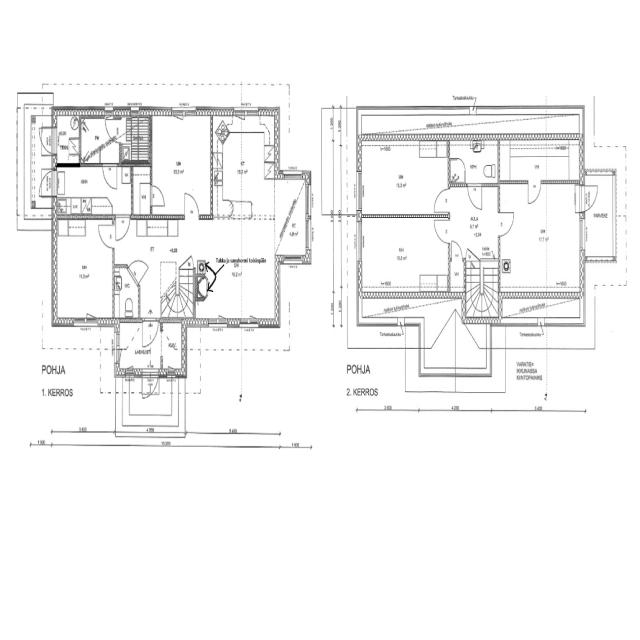door: (581, 169, 614, 260), (182, 189, 201, 220), (579, 184, 599, 213), (496, 208, 516, 236), (432, 184, 451, 213), (97, 220, 116, 248), (128, 258, 148, 284), (114, 212, 131, 242), (38, 170, 56, 198), (466, 180, 482, 210), (433, 215, 450, 243), (149, 182, 167, 208), (102, 161, 118, 190), (142, 316, 158, 345), (526, 178, 542, 206), (39, 127, 55, 153), (104, 115, 120, 141), (449, 239, 464, 261)
window: (502, 314, 540, 329), (355, 218, 364, 264), (235, 106, 261, 120), (304, 181, 313, 219), (356, 167, 364, 209), (170, 105, 192, 120), (282, 167, 304, 182), (304, 214, 312, 251), (283, 254, 303, 267), (240, 316, 260, 329), (72, 315, 90, 328), (208, 317, 227, 328), (537, 314, 549, 330), (396, 314, 405, 330), (164, 369, 176, 378)
zone: (498, 180, 582, 292), (198, 226, 275, 326), (358, 216, 449, 292), (213, 114, 276, 219), (151, 114, 213, 218), (54, 216, 114, 322), (360, 144, 447, 217), (122, 230, 193, 318), (449, 184, 500, 262), (499, 142, 577, 182), (55, 163, 116, 214), (275, 172, 310, 258), (582, 168, 614, 260), (156, 259, 195, 318), (448, 142, 500, 184), (79, 116, 118, 163), (116, 113, 151, 162), (54, 112, 80, 164), (114, 264, 138, 318), (161, 320, 185, 372), (131, 164, 152, 218), (448, 256, 465, 292), (449, 237, 464, 273)
